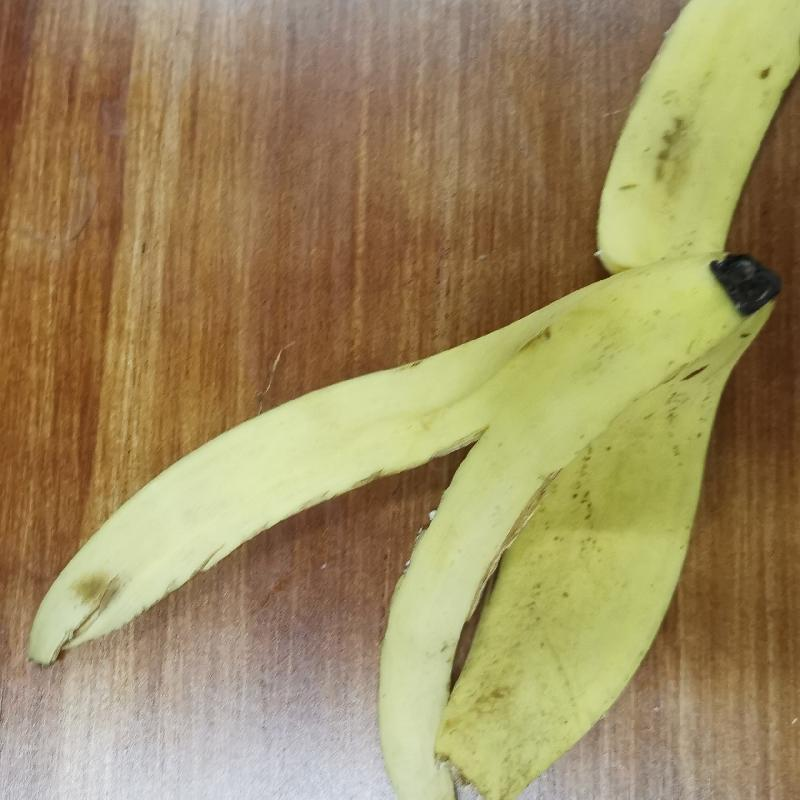bananas: (23, 4, 800, 799)
